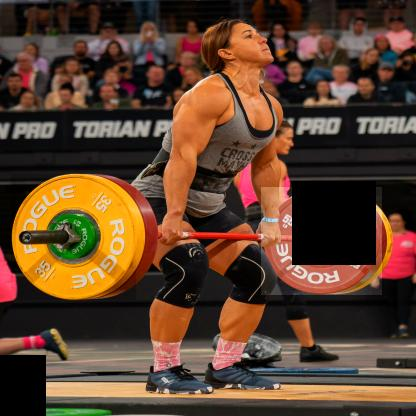barbell: (12, 175, 137, 301), (262, 188, 383, 296)
